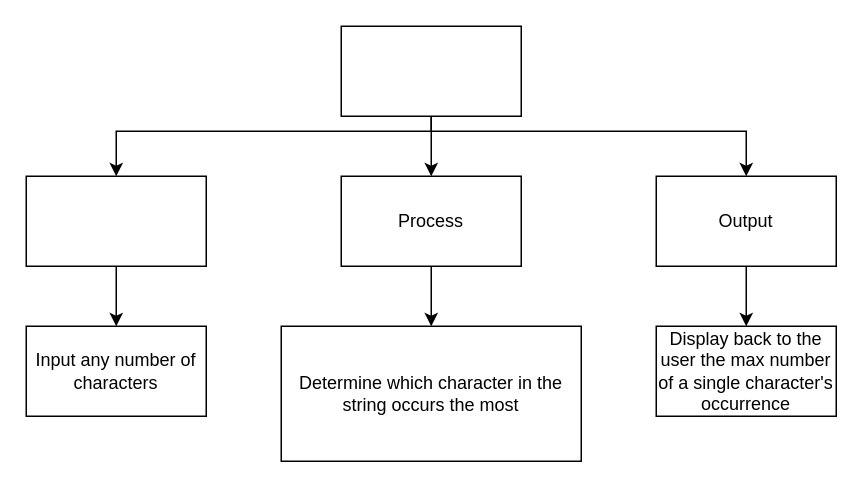
Some shapes in this 863 by 488 pixel diagram are drawn without their labels. Each missing label, with the box of its shape:
Input: (25, 175, 206, 266)
Rock-Paper-Scissors: (340, 25, 521, 116)
